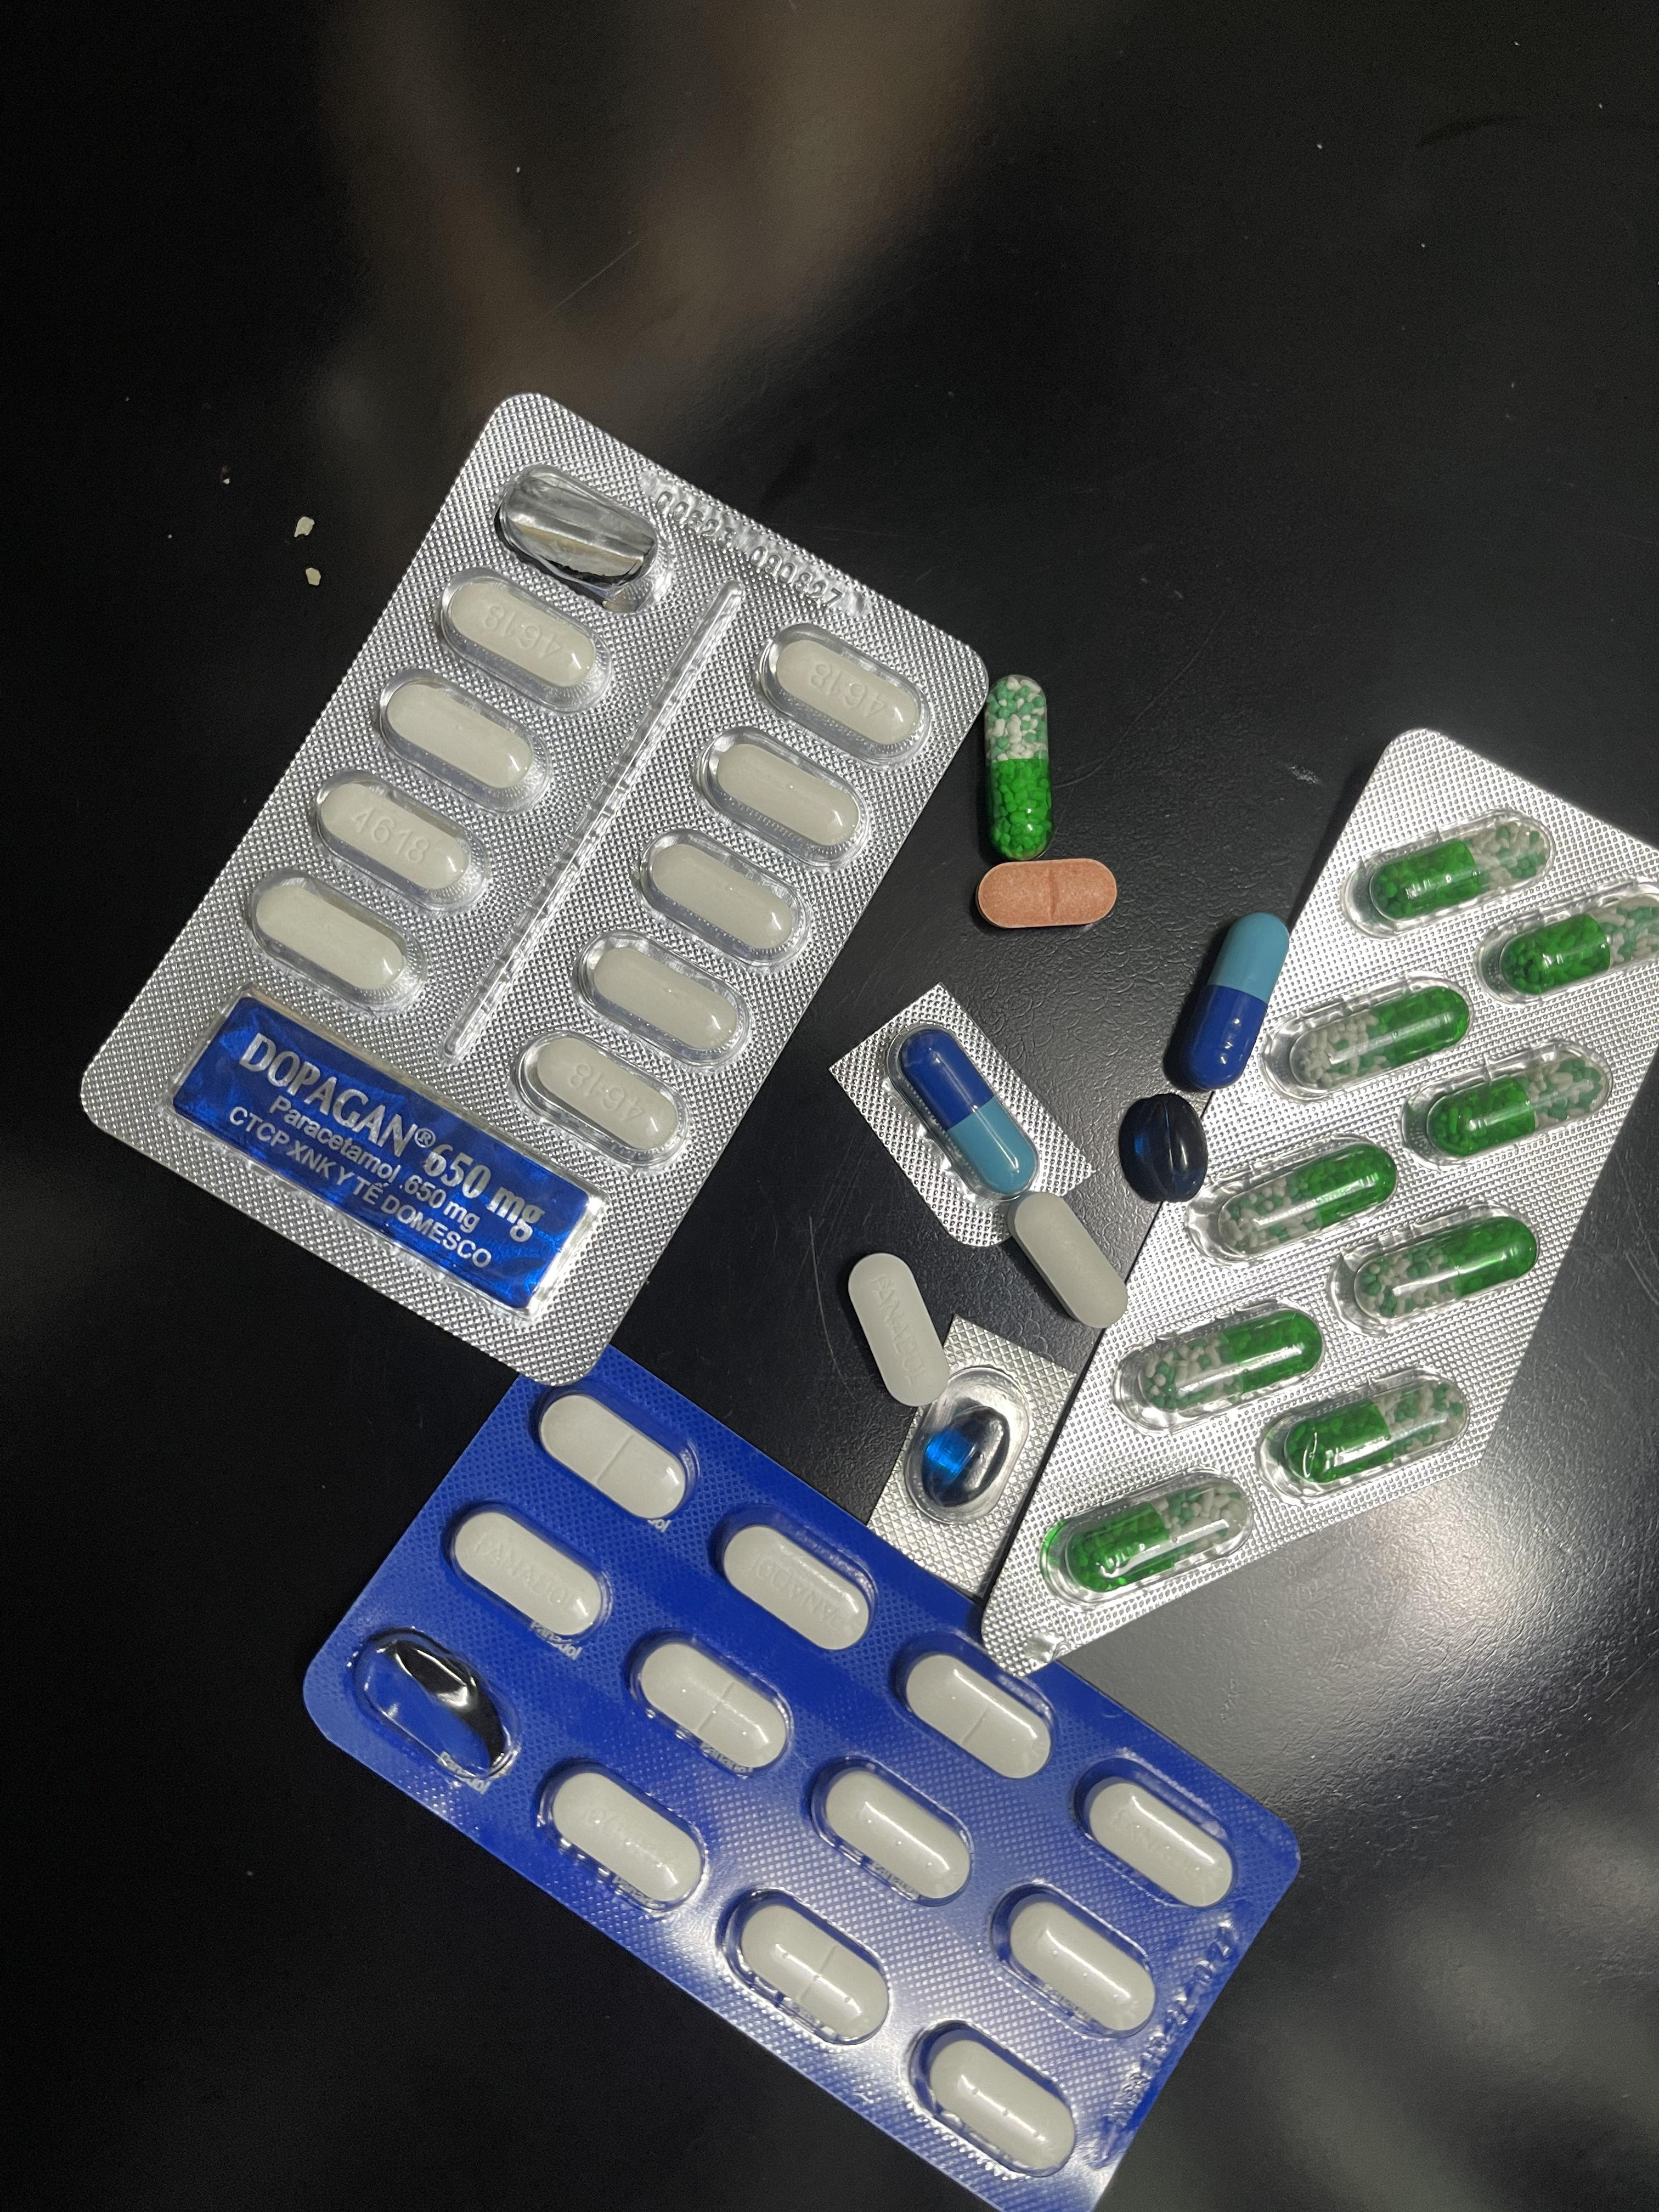Lincomyxin_500mg: (1119, 1092, 1208, 1202), (920, 1407, 1007, 1503)
Loratadine_10mg: (976, 857, 1117, 925)
Paracetamol_350mg: (911, 2022, 1079, 2177), (725, 1892, 889, 2047), (542, 1766, 709, 1916), (995, 1886, 1159, 2036), (631, 1634, 796, 1778), (1073, 1763, 1232, 1911), (812, 1759, 974, 1904), (446, 1503, 606, 1644), (716, 1512, 878, 1651), (896, 1642, 1058, 1782), (537, 1388, 694, 1522), (849, 1252, 955, 1404)
Paracetamol_500mg: (308, 773, 486, 913), (437, 571, 612, 712), (376, 672, 551, 813), (247, 869, 418, 1010), (641, 829, 814, 965), (514, 1038, 685, 1172), (579, 932, 751, 1064), (697, 730, 868, 862), (765, 624, 931, 756), (1006, 1191, 1129, 1325)
Paracetamol_650mg: (1262, 1371, 1469, 1500), (1335, 1204, 1542, 1332), (1199, 1134, 1401, 1261), (1351, 812, 1551, 934), (1270, 975, 1467, 1097), (1044, 1480, 1236, 1604), (1122, 1303, 1316, 1423), (1413, 1047, 1612, 1162), (1481, 881, 1656, 1001), (985, 676, 1051, 859)
pill: (899, 1024, 1040, 1193), (1168, 914, 1290, 1092)
